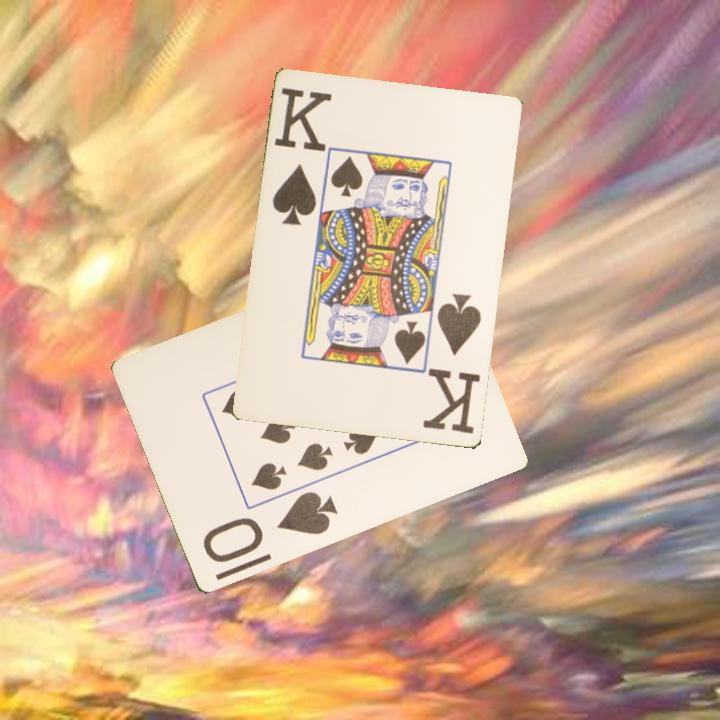10s: (199, 488, 341, 567)
Ks: (421, 290, 485, 438), (269, 84, 334, 229)
